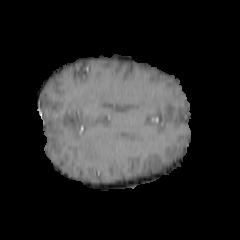glioma: (78, 134, 115, 167)
